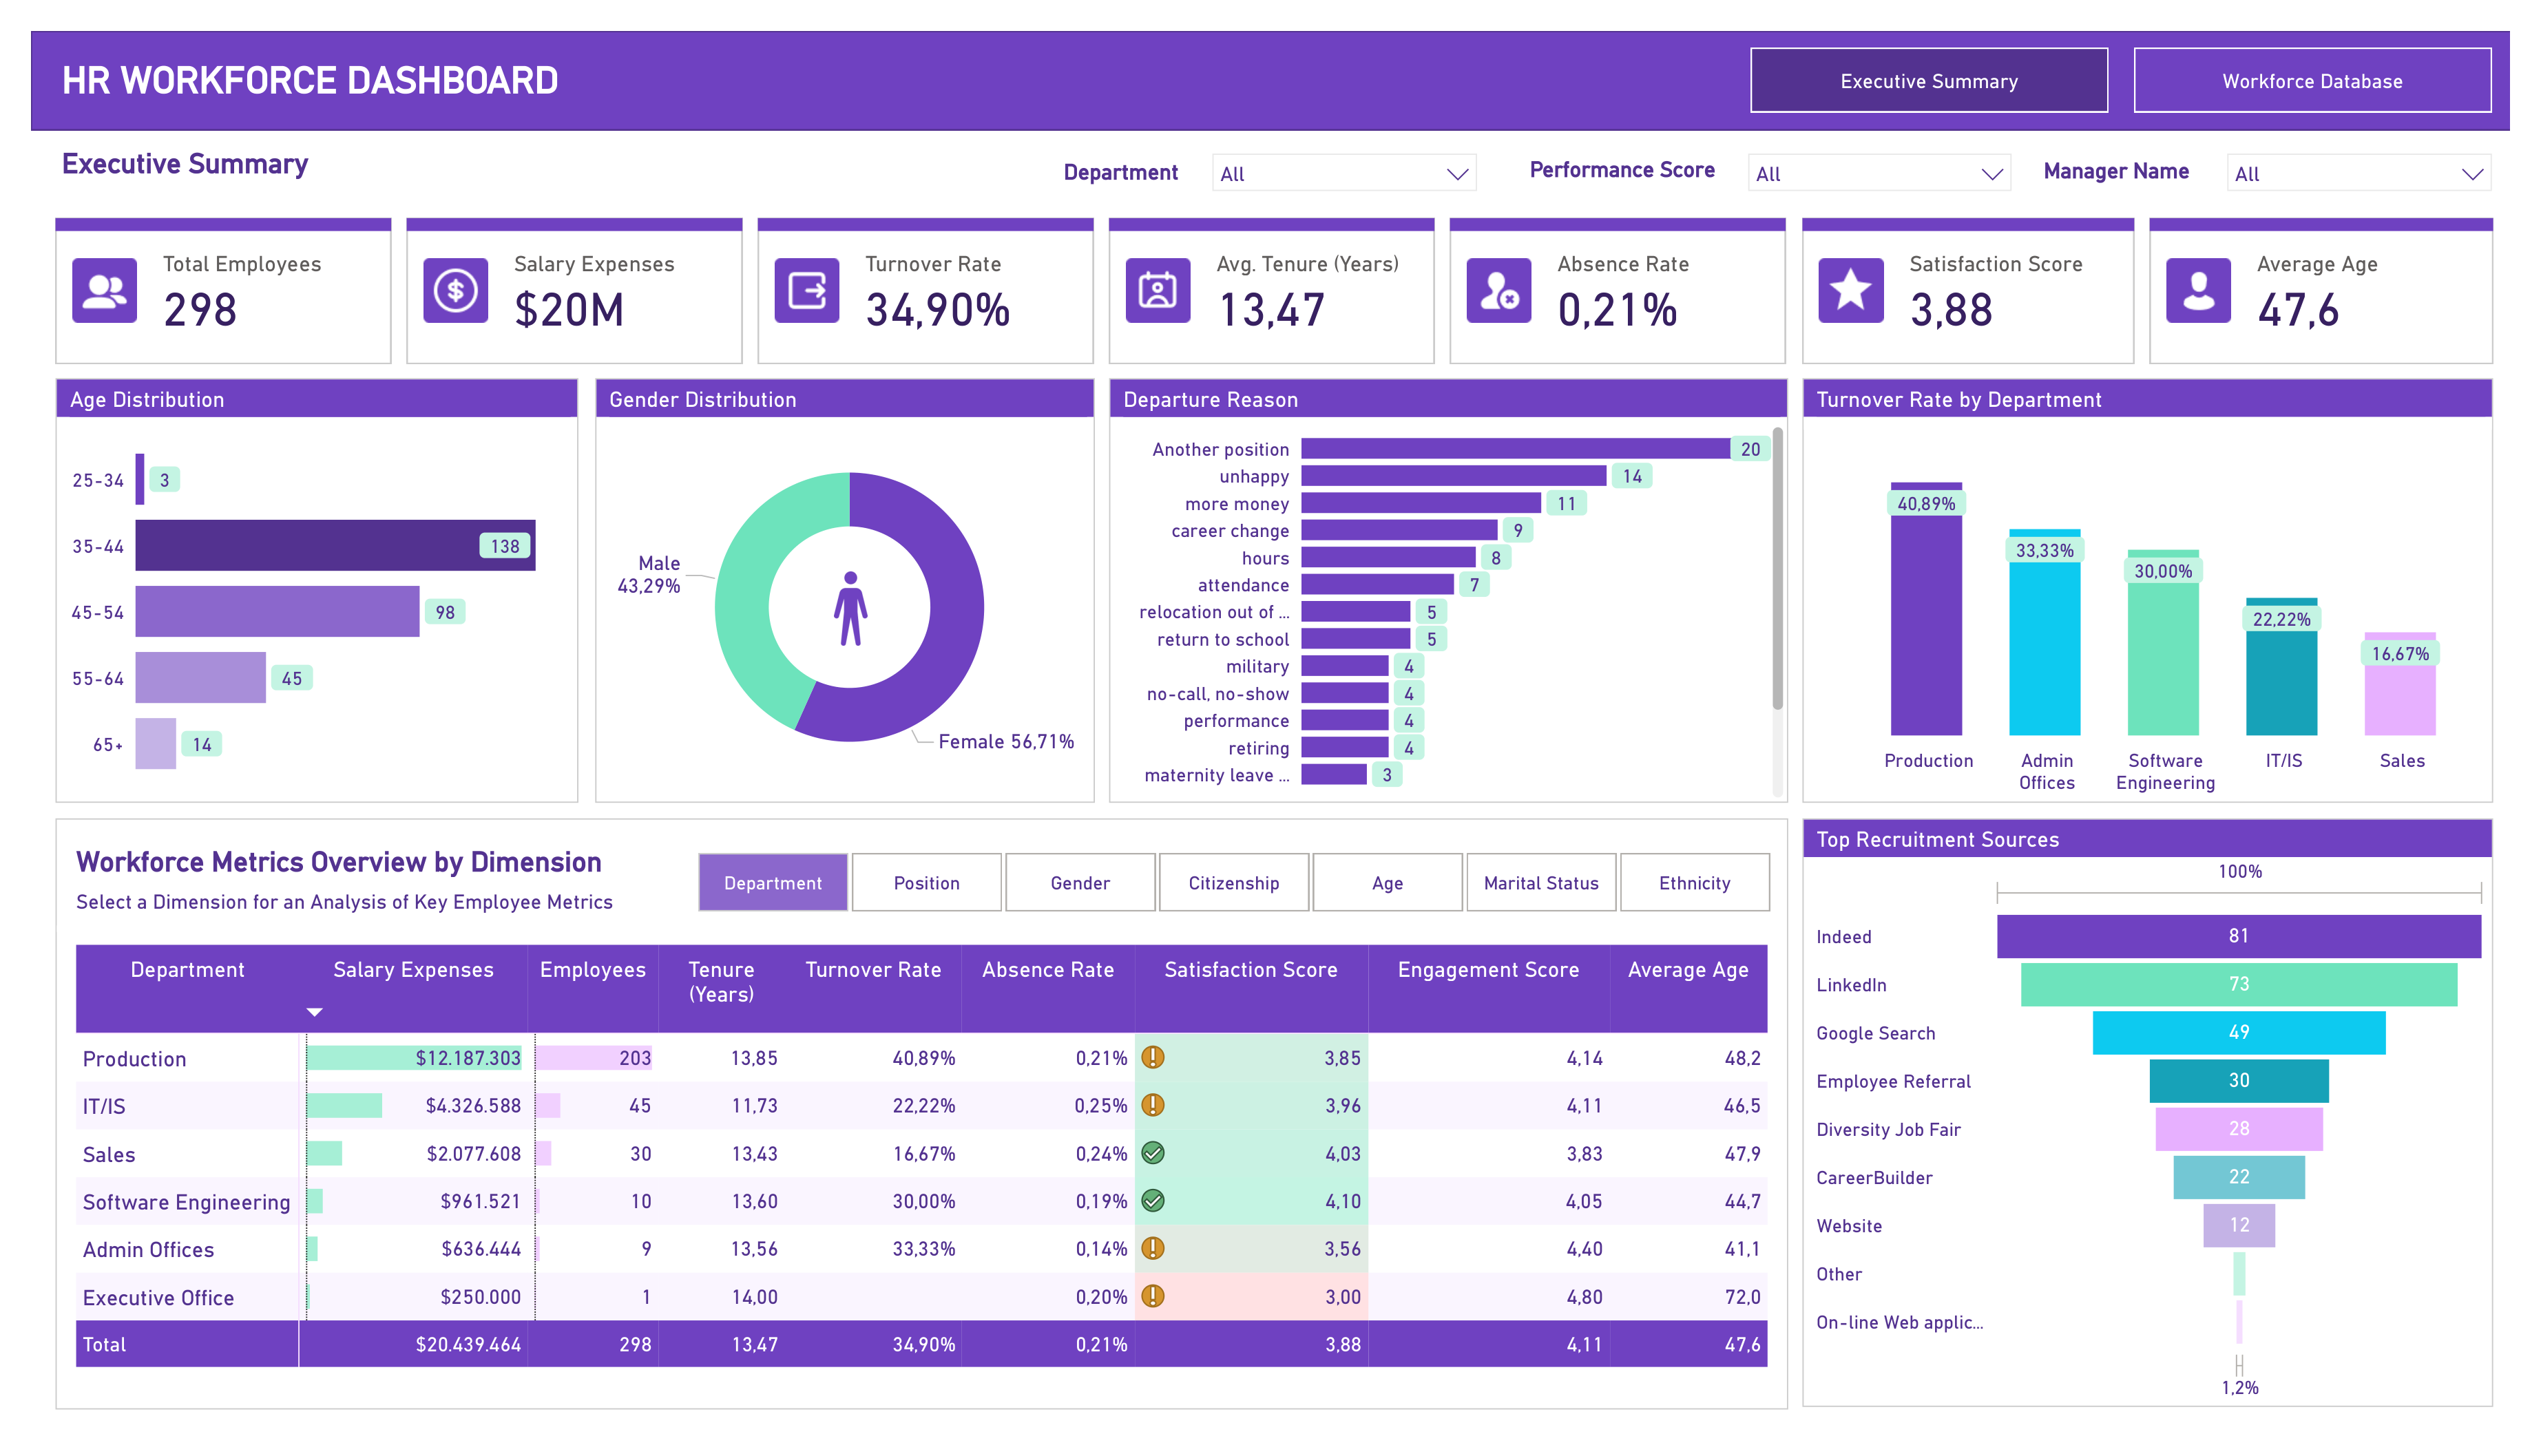

Layout of this report page (visuals, bound fields, positions):
{"tool":"powerbi","page":{"name":"Executive Summary","canvas":[1920,1080],"ordinal":0},"visuals":[{"type":"shape","box":[0,0,1920.6,77],"z":0},{"type":"cardVisual","fields":{"Data":["DAX Measures.Total Employees"]},"box":[18.9,145.3,260.5,113.7],"z":1000},{"type":"cardVisual","fields":{"Data":["DAX Measures.Avg. Tenure"]},"box":[835.3,145.3,252.6,113.7],"z":2000},{"type":"cardVisual","fields":{"Data":["DAX Measures.Employee Turnover Rate"]},"box":[563.2,145.3,260.5,113.7],"z":3000},{"type":"cardVisual","fields":{"Data":["DAX Measures.Total Salary Expenses"]},"box":[291.1,145.3,260.5,113.7],"z":4000},{"type":"cardVisual","fields":{"Data":["DAX Measures.Avg. Absenteeism Rate"]},"box":[1099.5,145.3,260.5,113.7],"z":5000},{"type":"donutChart","title":"Gender Distribution","fields":{"Y":["DAX Measures.Total Employees"],"Category":["Employee.Gender"]},"box":[436.6,269.3,386.9,329.5],"z":6000,"group":"g1"},{"type":"clusteredColumnChart","title":"Turnover Rate by Department","fields":{"Category":["Department.Department"],"Y":["DAX Measures.Employee Turnover Rate"]},"box":[1371.9,269.3,535.4,328.2],"z":6000},{"type":"cardVisual","fields":{"Data":["Measure.Avg. Satisfaction Score"]},"box":[1371.6,145.3,257.4,113.7],"z":7000},{"type":"cardVisual","fields":{"Data":["DAX Measures.Avg. Age"]},"box":[1640.5,145.3,266.8,113.7],"z":8000},{"type":"image","box":[616.7,407.1,35.7,81.6],"z":8000,"group":"g1"},{"type":"barChart","title":"Age Distribution","fields":{"Category":["Employee.Age Category","Department.Department"],"Y":["DAX Measures.Total Employees"]},"box":[18.7,269.3,405,328.6],"z":9000},{"type":"pageNavigator","box":[1332,12.7,575.2,51],"z":10000},{"type":"textbox","box":[18.9,85.1,287.3,46.6],"z":11000},{"type":"textbox","box":[18.9,16,674.3,45.2],"z":13000},{"type":"pivotTable","title":"Workforce Metrics Overview by Dimension","fields":{"Rows":["Department.Department"],"Values":["Measure.Total Salary Expenses","DAX Measures.Total Employees","Measure.Avg. Tenure","DAX Measures.Employee Turnover Rate","DAX Measures.Avg. Absenteeism Rate","Measure.Avg. Satisfaction Score","Measure.Avg. Engagement Score","DAX Measures.Avg. Age"]},"box":[19.1,610.3,1341.6,457.3],"z":14000},{"type":"funnel","title":"Top Recruitment Sources","fields":{"Category":["Employee.RecruitmentSource"],"Y":["DAX Measures.Total Employees"]},"box":[1371.9,610.3,535.4,455.7],"z":15000},{"type":"group","id":"g1","title":"Group 1","box":[436.6,269.3,387.2,328.2],"z":16000},{"type":"advancedSlicerVisual","fields":{"Values":["Demographics.Demographics"]},"box":[517.3,637.3,831.8,45.5],"z":17000},{"type":"barChart","title":"Departure Reason","fields":{"Category":["Employee.TerminationReason"],"Y":["DAX Measures.Total Employees"]},"box":[834.9,269.3,525.8,328.2],"z":18000},{"type":"textbox","box":[1553.7,93.1,137.8,34.1],"z":19000},{"type":"slicer","fields":{"Values":["Department.Department"]},"box":[905.2,85.1,224.5,46.5],"z":20000},{"type":"textbox","box":[794.7,94.5,109.9,34.1],"z":21000},{"type":"slicer","fields":{"Values":["Performance.PerformanceScore"]},"box":[1319.7,85.2,224.5,46.5],"z":22000},{"type":"textbox","box":[1156.3,91.8,163.7,33.3],"z":23000},{"type":"slicer","fields":{"Values":["Employee.ManagerName"]},"box":[1691.5,85.2,224.5,46.5],"z":24000}]}

Visuals, with their boxes in screenshot pixels (x1, y1, x2, y2), scaled from the page's 1920x1080 canvas onto the 2541x1456 screenshot:
shape: bbox=[0, 0, 2540, 104]
cardVisual - DAX Measures.Total Employees: bbox=[25, 196, 370, 349]
cardVisual - DAX Measures.Avg. Tenure: bbox=[1105, 196, 1440, 349]
cardVisual - DAX Measures.Employee Turnover Rate: bbox=[745, 196, 1090, 349]
cardVisual - DAX Measures.Total Salary Expenses: bbox=[385, 196, 730, 349]
cardVisual - DAX Measures.Avg. Absenteeism Rate: bbox=[1455, 196, 1800, 349]
"Gender Distribution" donutChart: bbox=[578, 363, 1090, 808]
"Turnover Rate by Department" clusteredColumnChart: bbox=[1816, 363, 2524, 805]
cardVisual - Measure.Avg. Satisfaction Score: bbox=[1815, 196, 2156, 349]
cardVisual - DAX Measures.Avg. Age: bbox=[2171, 196, 2524, 349]
image: bbox=[816, 549, 864, 659]
"Age Distribution" barChart: bbox=[25, 363, 561, 806]
pageNavigator: bbox=[1763, 17, 2524, 86]
textbox: bbox=[25, 115, 405, 178]
textbox: bbox=[25, 21, 917, 83]
"Workforce Metrics Overview by Dimension" pivotTable: bbox=[25, 823, 1801, 1439]
"Top Recruitment Sources" funnel: bbox=[1816, 823, 2524, 1437]
"Group 1" group: bbox=[578, 363, 1090, 805]
advancedSlicerVisual - Demographics.Demographics: bbox=[684, 859, 1786, 920]
"Departure Reason" barChart: bbox=[1105, 363, 1801, 805]
textbox: bbox=[2056, 125, 2239, 171]
slicer - Department.Department: bbox=[1198, 115, 1495, 178]
textbox: bbox=[1052, 127, 1198, 173]
slicer - Performance.PerformanceScore: bbox=[1746, 115, 2044, 178]
textbox: bbox=[1530, 124, 1747, 169]
slicer - Employee.ManagerName: bbox=[2239, 115, 2535, 178]
